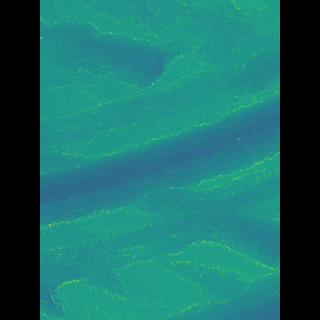Loch: (70, 88, 250, 237), (166, 169, 249, 319), (69, 0, 169, 94)
